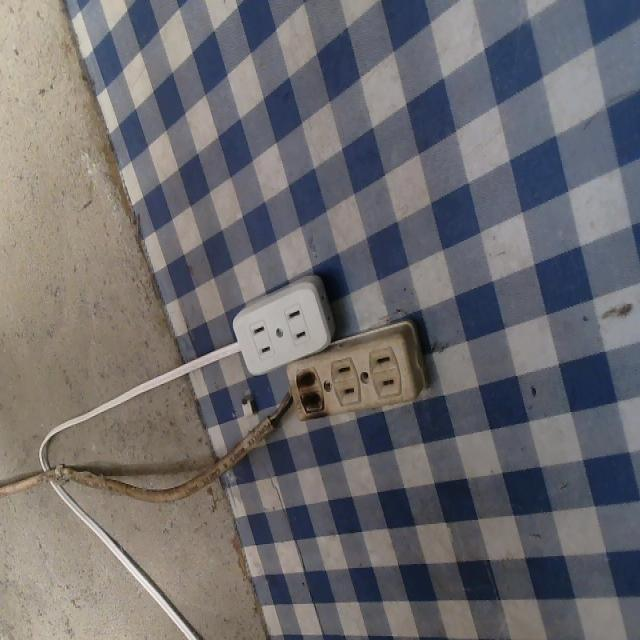-: (283, 358, 328, 431)
